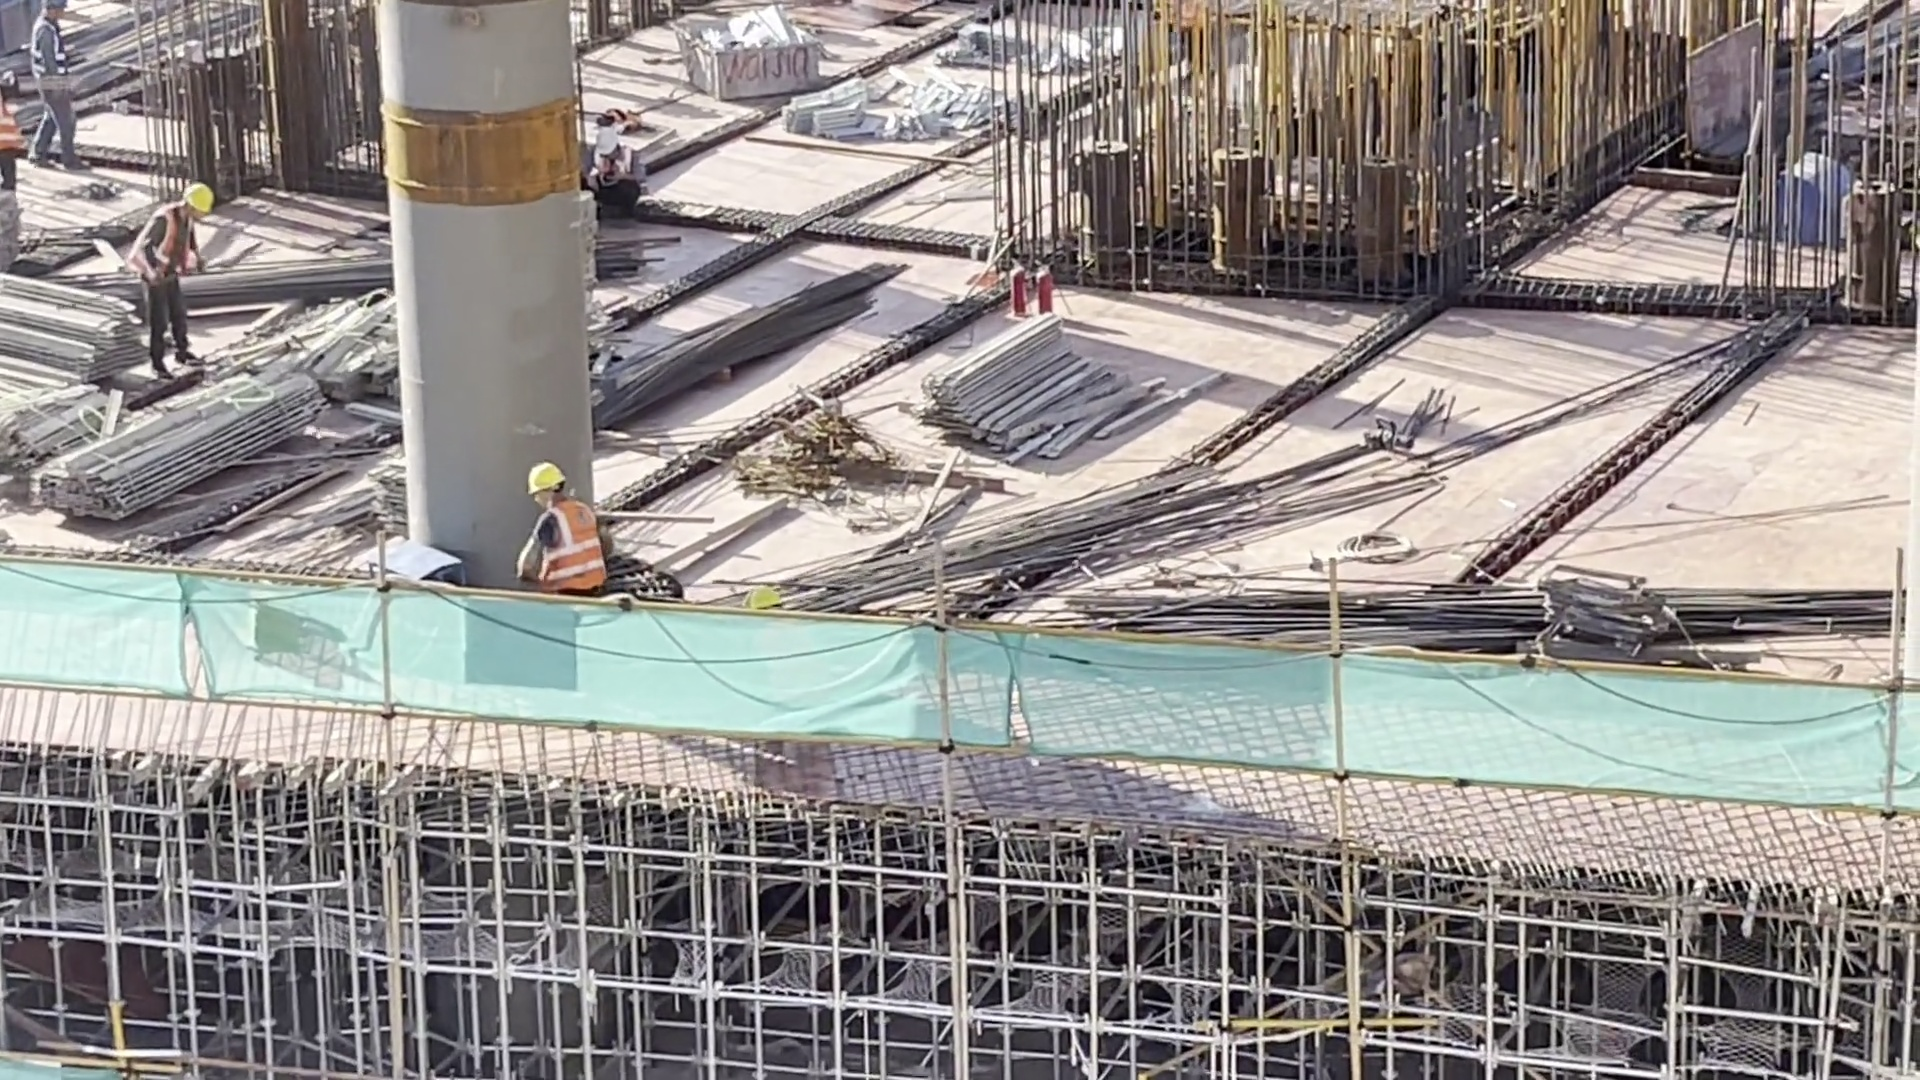helmet: (182, 183, 221, 219), (517, 465, 563, 495), (589, 124, 622, 161)
hopper: (671, 8, 834, 108)
person: (500, 450, 606, 623), (126, 148, 201, 390), (26, 6, 107, 179), (575, 105, 643, 216)
vest: (130, 204, 208, 290), (526, 506, 593, 575)
wood: (48, 346, 314, 511), (913, 310, 1151, 473), (1, 268, 152, 406)
